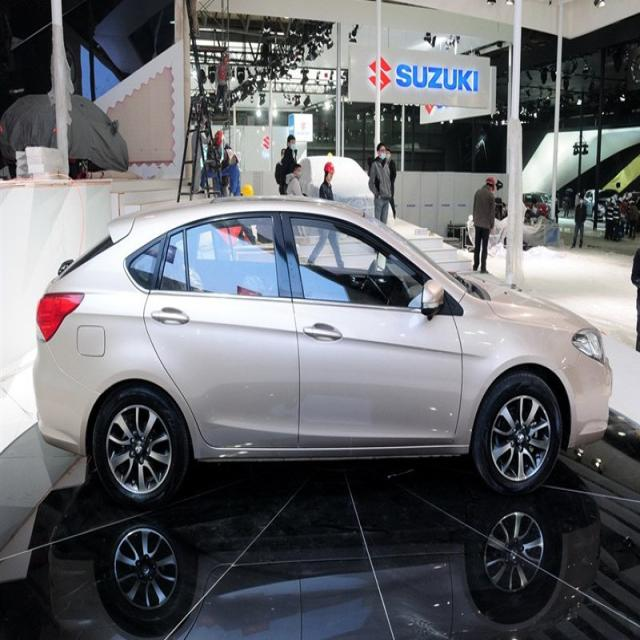back_right_side_light: (33, 287, 86, 343)
door: (140, 206, 302, 458)
front_bumper: (554, 350, 615, 450)
front_right_side_door: (279, 202, 464, 454)
front_right_side_light: (570, 324, 606, 366)
front_right_side_mirror: (417, 277, 448, 317)
rear_bumper: (30, 328, 96, 460)
wheel: (92, 387, 186, 510), (473, 374, 562, 496)
